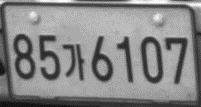0: (139, 35, 163, 83)
1: (116, 35, 134, 83)
5: (38, 34, 60, 80)
6: (90, 35, 113, 81)
7: (164, 36, 187, 84)
8: (12, 33, 35, 80)
가: (61, 43, 85, 81)
